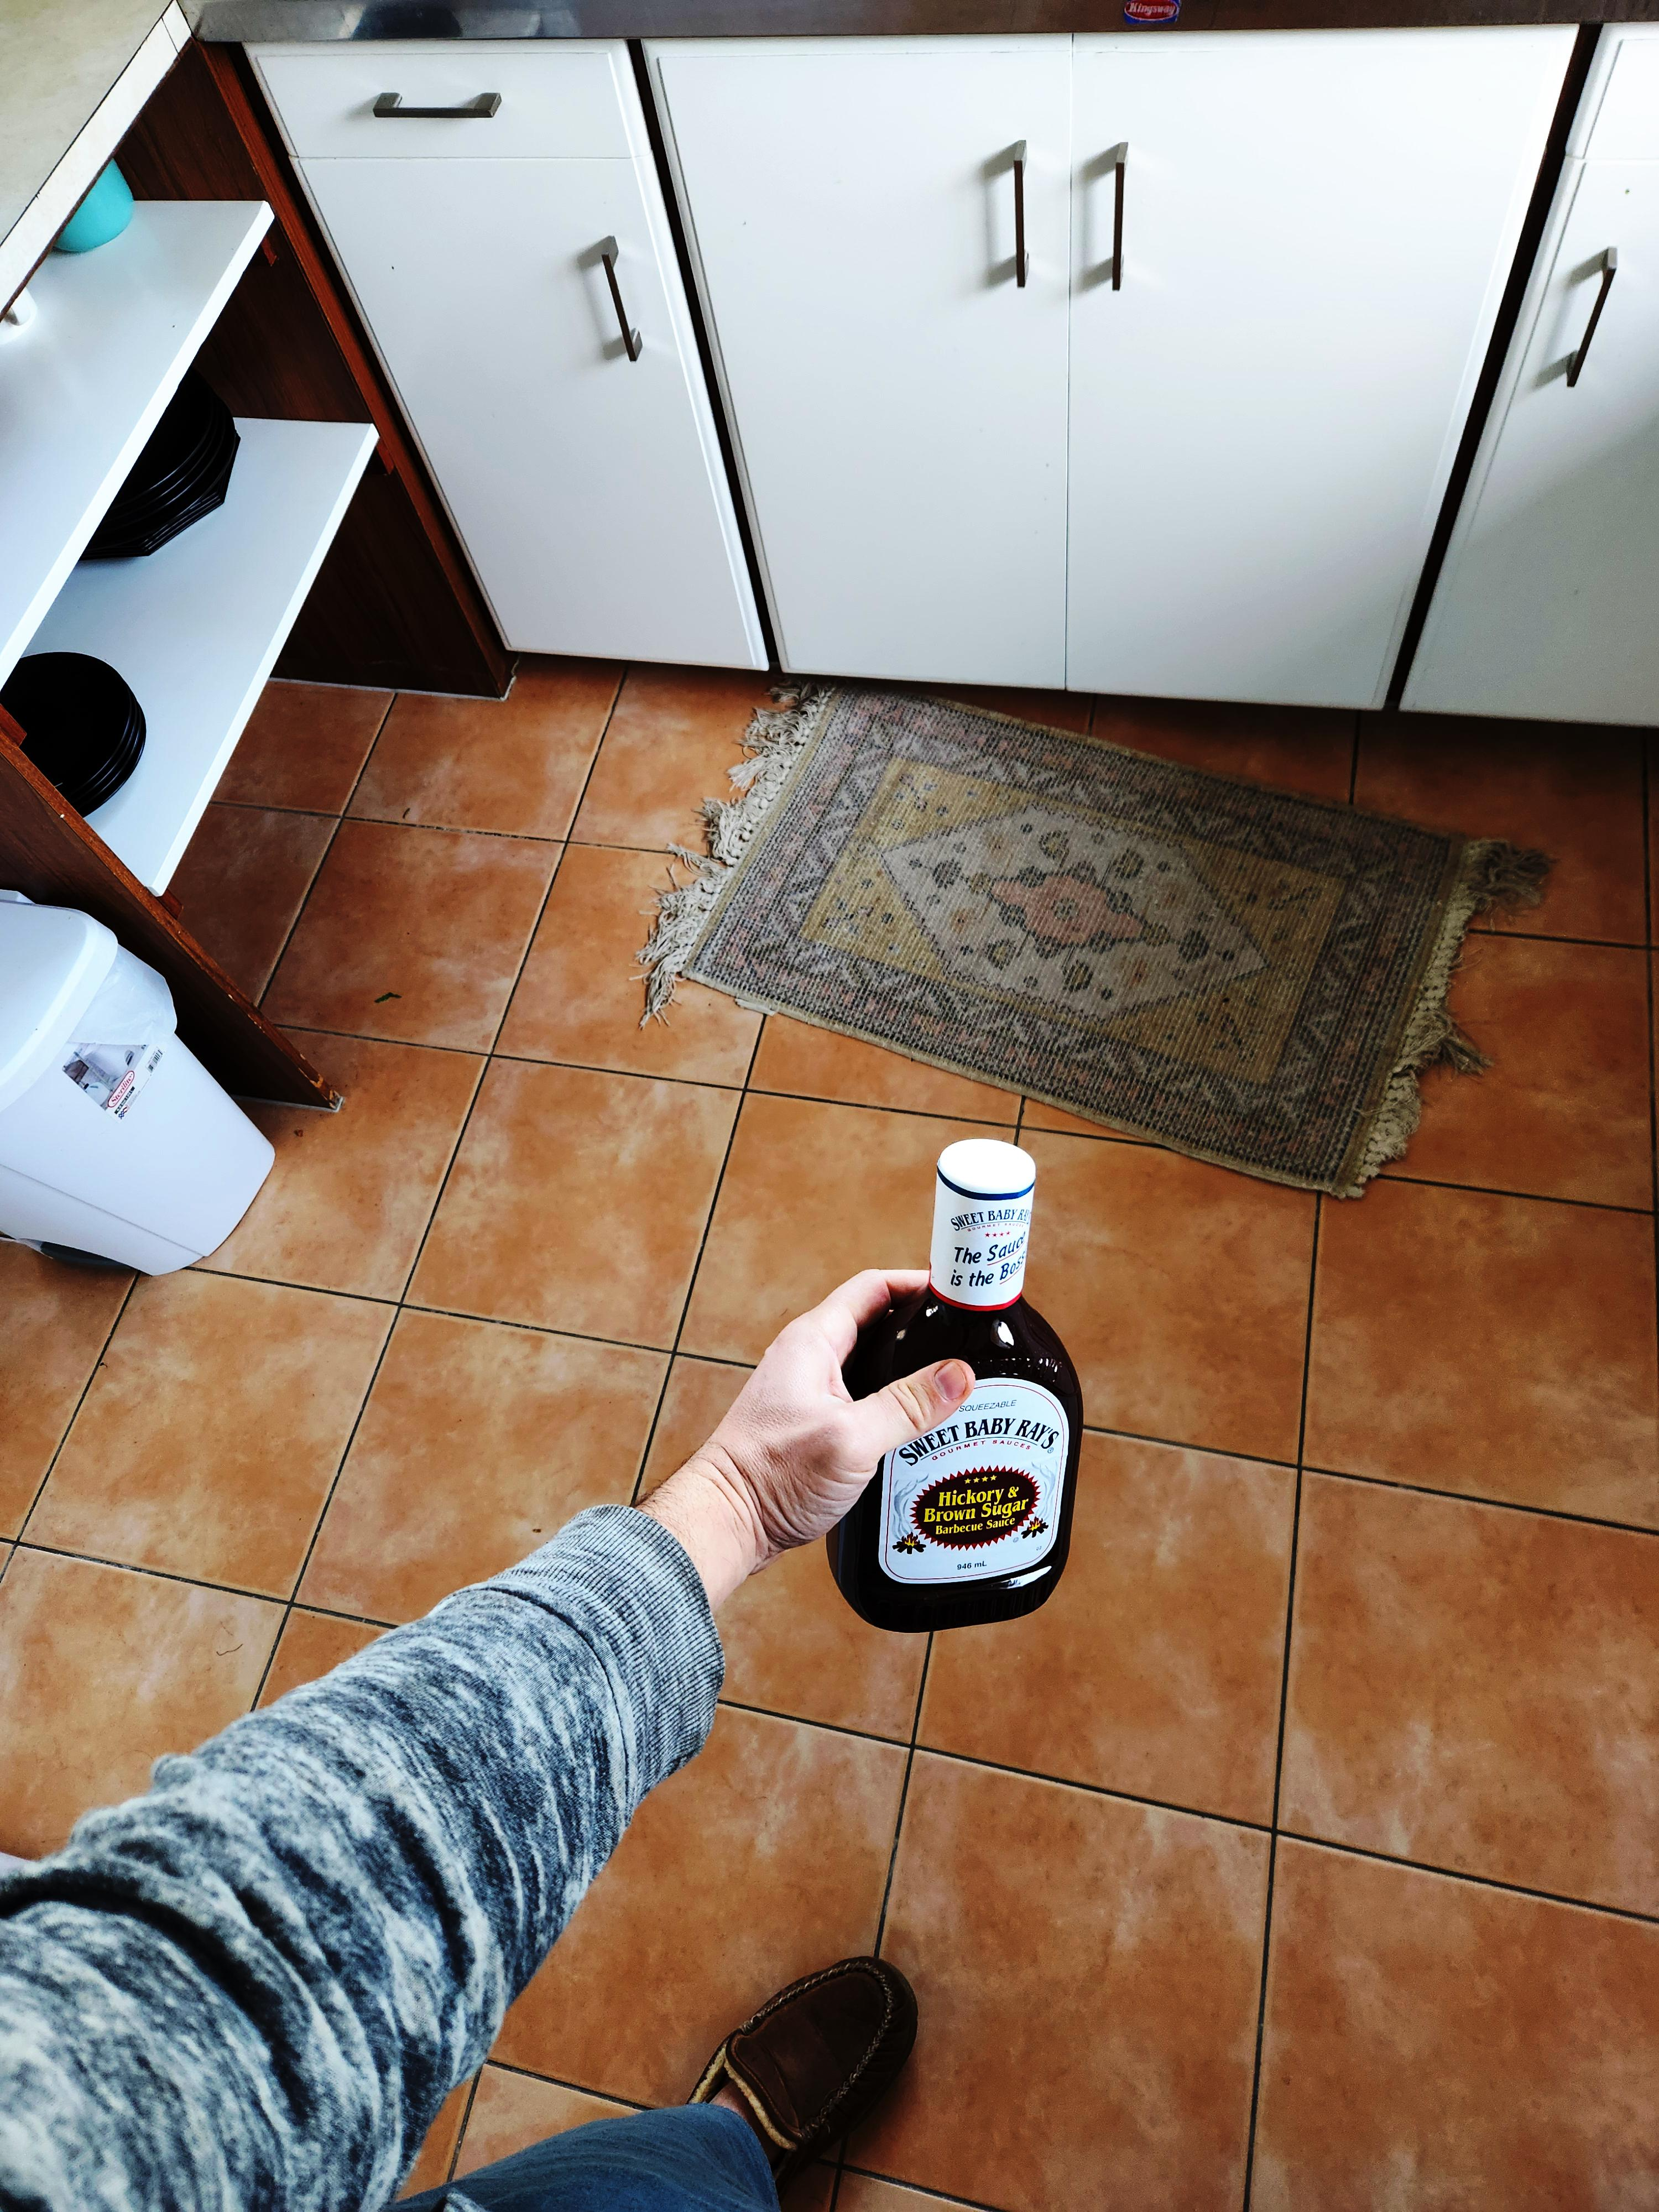barbecue sauce: (622, 1515, 814, 2182)
